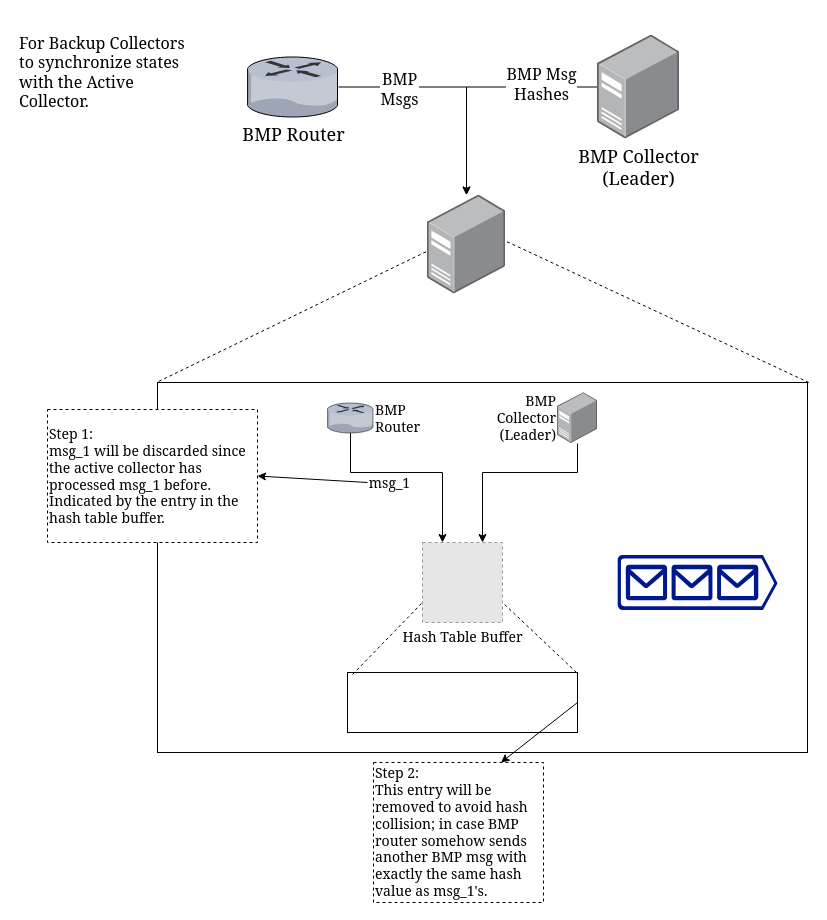
Image size: 827x920. Some labels were removed from this diagram. Grey dashed boxes stand in for pictures. The shapes that lost their labels are listed below. From the top down, each one's centre as x and y in pixels, then its label:
(466,244): BMP Collector (Backup)
(697,582): CircularBuffer (supports delete by index)
(462,702): msg_1_hash: null
